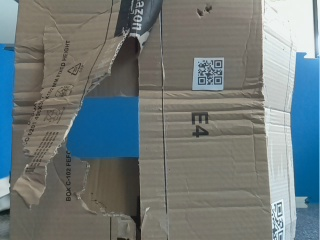caja_rota: (9, 1, 296, 240)
